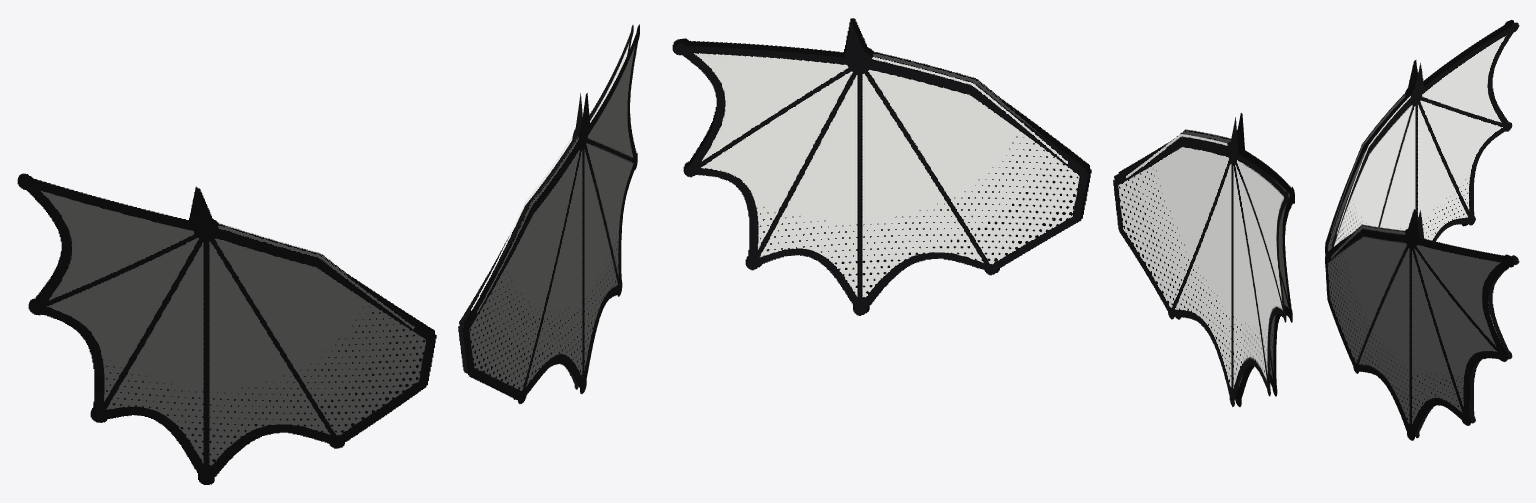
The model's file is comic_wings.glb.
The picture shows the model from 3 angles, left to right: view 1: azimuth 30°, elevation 25°; view 2: azimuth 150°, elevation 25°; view 3: azimuth 270°, elevation 25°; orthographic projection. The views are drawn at different scales.
Parts seen in each view (by area): view 1: Comic Wing Right, Comic Wing Left; view 2: Comic Wing Left, Comic Wing Right; view 3: Comic Wing Left, Comic Wing Right.
Part boxes in pixels (x1,y1,x2,y2): Comic Wing Right: (17,173,436,484); Comic Wing Left: (458,24,639,403); Comic Wing Left: (672,18,1091,315); Comic Wing Right: (1113,113,1294,406); Comic Wing Left: (1325,209,1519,440); Comic Wing Right: (1325,20,1519,253).
Bounding box in the file's own units: 2.23 × 1.02 × 0.7765.
Materials: 2 (2 with a texture image).
